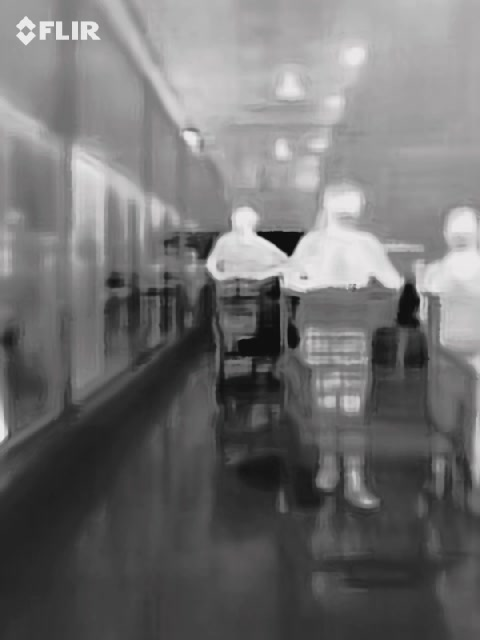head: (318, 180, 368, 233), (444, 207, 480, 254)
